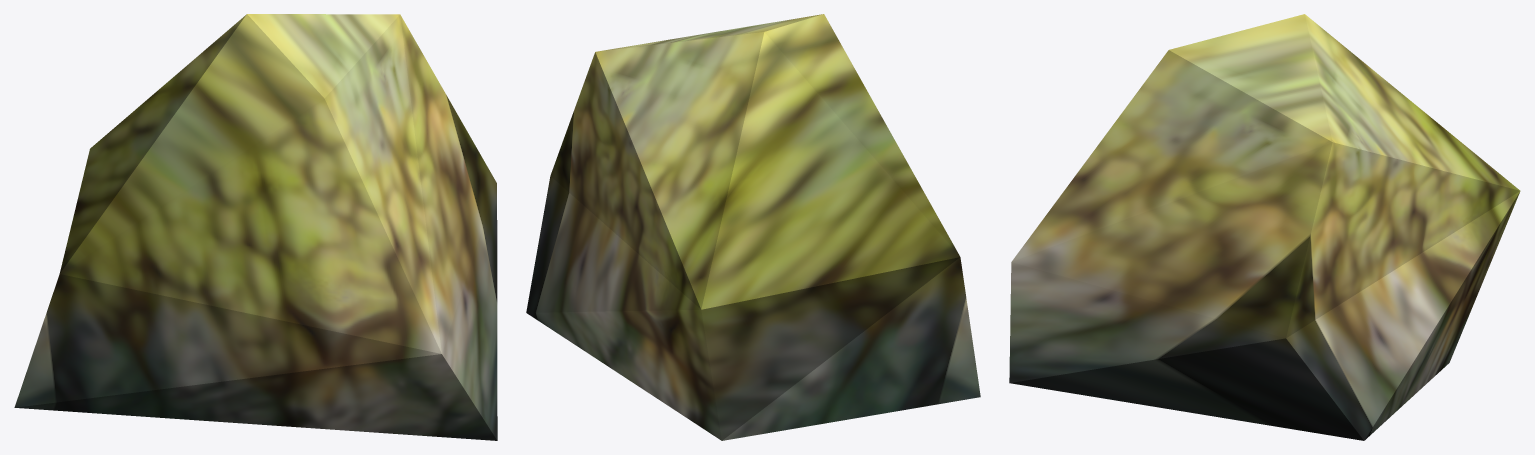
File: TheOctagon_Floor_0_Rock_1.gltf
3 views of the same model, side by side, from view 1: azimuth 30°, elevation 25°; view 2: azimuth 150°, elevation 25°; view 3: azimuth 270°, elevation 25° (orthographic). The views are drawn at different scales.
Parts seen in each view (by area): view 1: TheOctagon_Floor_0_Rock_1; view 2: TheOctagon_Floor_0_Rock_1; view 3: TheOctagon_Floor_0_Rock_1.
Boxes of the visible parts, x1,y1,x2,y2 form: TheOctagon_Floor_0_Rock_1: (14,14,497,440); TheOctagon_Floor_0_Rock_1: (526,14,980,440); TheOctagon_Floor_0_Rock_1: (1009,14,1520,440).
Size of the model in its own units: 9.69 by 7.4 by 9.46.
Materials: 1 (1 with a texture image).
